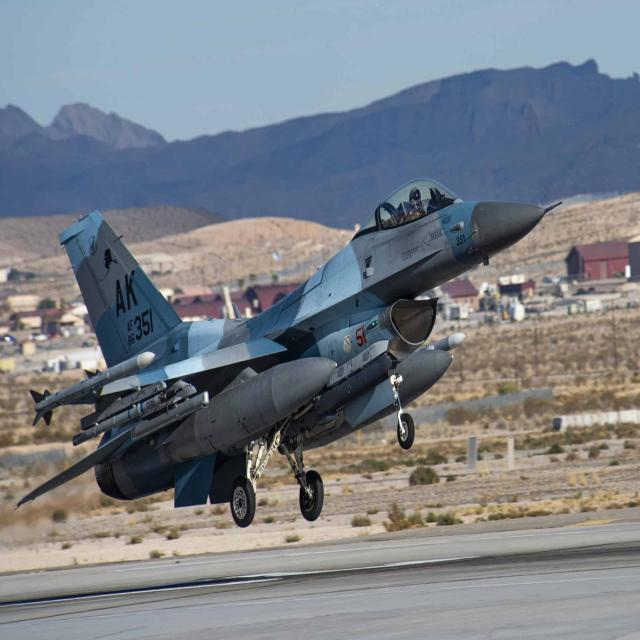MIL_Plane: (14, 177, 563, 528)
